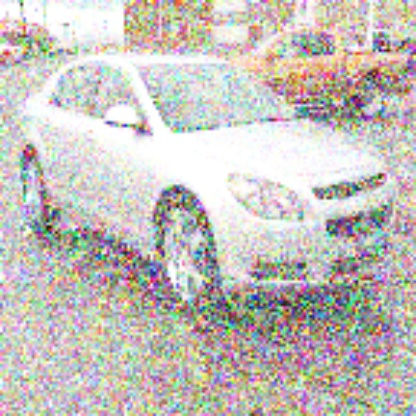Vehicle: (17, 56, 402, 322)
